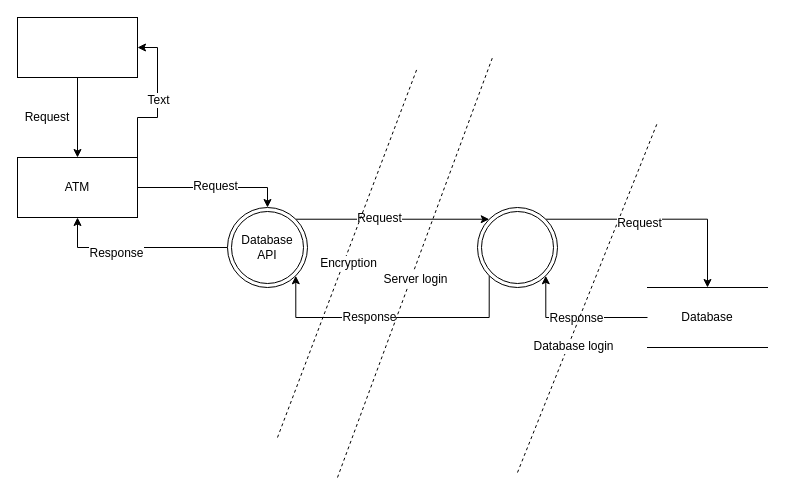
Some shapes in this 785 by 496 pixel diagram are drawn without their labels. Here are the shapes that lost their labels. From the top down, the centre of each, then its label:
At (77,47): "Gebruikers".
At (517,247): "Server API".
